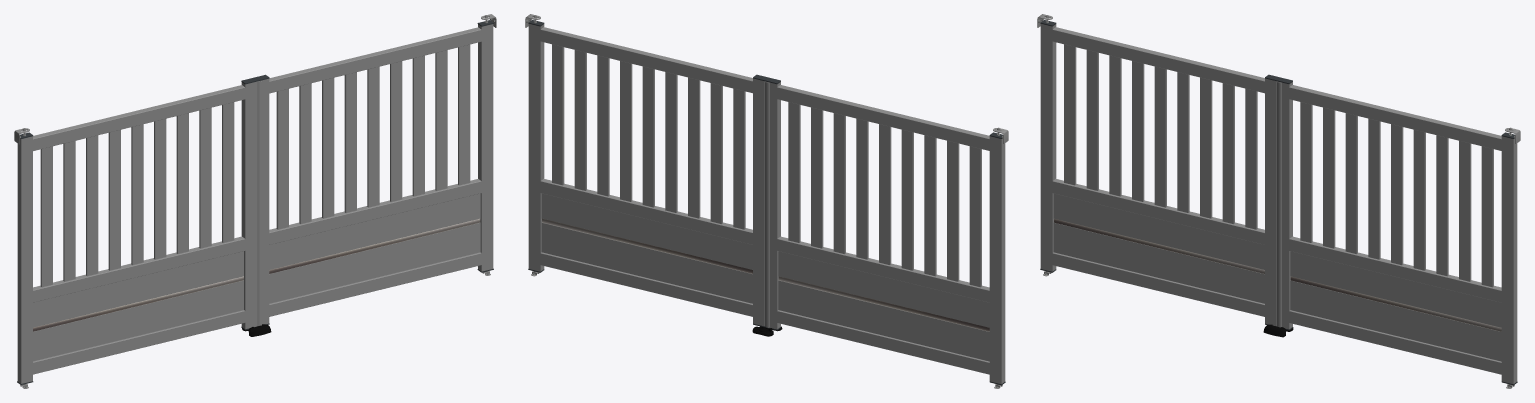
The picture shows the model from 3 angles, left to right: view 1: azimuth 30°, elevation 25°; view 2: azimuth 150°, elevation 25°; view 3: azimuth 330°, elevation 25°; orthographic projection.
Parts seen in each view (by area): view 1: Shape107412745, Shape1, Shape107412754, Shape170, Shape107412643, Shape107412740, Shape107412638, Shape107412744, Shape096, Shape092, Shape107412741, Shape107412743 (+23 smaller); view 2: Shape1, Shape107412745, Shape170, Shape107412754, Shape107412643, Shape107412740, Shape096, Shape107412744, Shape092, Shape107412741, Shape107412739, Shape095 (+23 smaller); view 3: Shape1, Shape107412745, Shape107412754, Shape170, Shape107412740, Shape107412643, Shape107412744, Shape096, Shape107412741, Shape092, Shape107412638, Shape107412743 (+23 smaller).
Boxes of the visible parts, x1=… form: Shape107412745: x1=269, y1=222, x2=480, y2=303; Shape1: x1=33, y1=280, x2=243, y2=361; Shape107412754: x1=269, y1=193, x2=480, y2=269; Shape170: x1=33, y1=251, x2=243, y2=327; Shape107412643: x1=17, y1=136, x2=32, y2=383; Shape107412740: x1=478, y1=24, x2=493, y2=271; Shape107412638: x1=241, y1=81, x2=256, y2=329; Shape107412744: x1=269, y1=27, x2=481, y2=93; Shape096: x1=33, y1=85, x2=245, y2=150; Shape092: x1=33, y1=236, x2=245, y2=302; Shape107412741: x1=269, y1=179, x2=481, y2=244; Shape107412743: x1=269, y1=252, x2=481, y2=316; Shape1: x1=778, y1=280, x2=989, y2=361; Shape107412745: x1=541, y1=222, x2=752, y2=303; Shape170: x1=778, y1=251, x2=989, y2=327; Shape107412754: x1=541, y1=193, x2=752, y2=269; Shape107412643: x1=989, y1=136, x2=1005, y2=383; Shape107412740: x1=528, y1=24, x2=544, y2=271; Shape096: x1=777, y1=85, x2=989, y2=150; Shape107412744: x1=540, y1=27, x2=752, y2=93; Shape092: x1=777, y1=236, x2=989, y2=302; Shape107412741: x1=540, y1=179, x2=752, y2=244; Shape107412739: x1=753, y1=78, x2=764, y2=326; Shape095: x1=777, y1=310, x2=989, y2=374; Shape1: x1=1053, y1=222, x2=1264, y2=303; Shape107412745: x1=1290, y1=280, x2=1501, y2=361; Shape107412754: x1=1290, y1=251, x2=1501, y2=327; Shape170: x1=1053, y1=193, x2=1264, y2=269; Shape107412740: x1=1501, y1=136, x2=1517, y2=383; Shape107412643: x1=1040, y1=24, x2=1056, y2=271; Shape107412744: x1=1289, y1=85, x2=1501, y2=150; Shape096: x1=1052, y1=27, x2=1264, y2=93; Shape107412741: x1=1289, y1=236, x2=1501, y2=302; Shape092: x1=1052, y1=179, x2=1264, y2=244; Shape107412638: x1=1265, y1=78, x2=1276, y2=326; Shape107412743: x1=1289, y1=310, x2=1501, y2=374.
Bounding box in the file's own units: 3260 × 1696 × 146.
8 materials, 3 textured.
